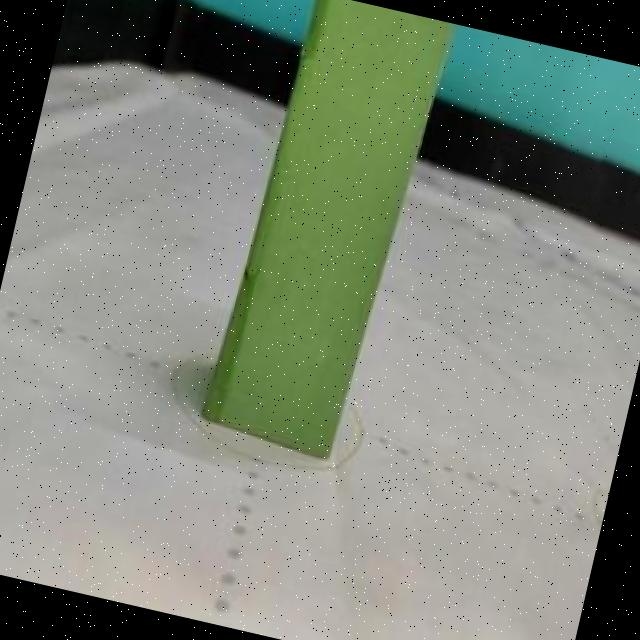greenbox: (194, 0, 455, 464)
